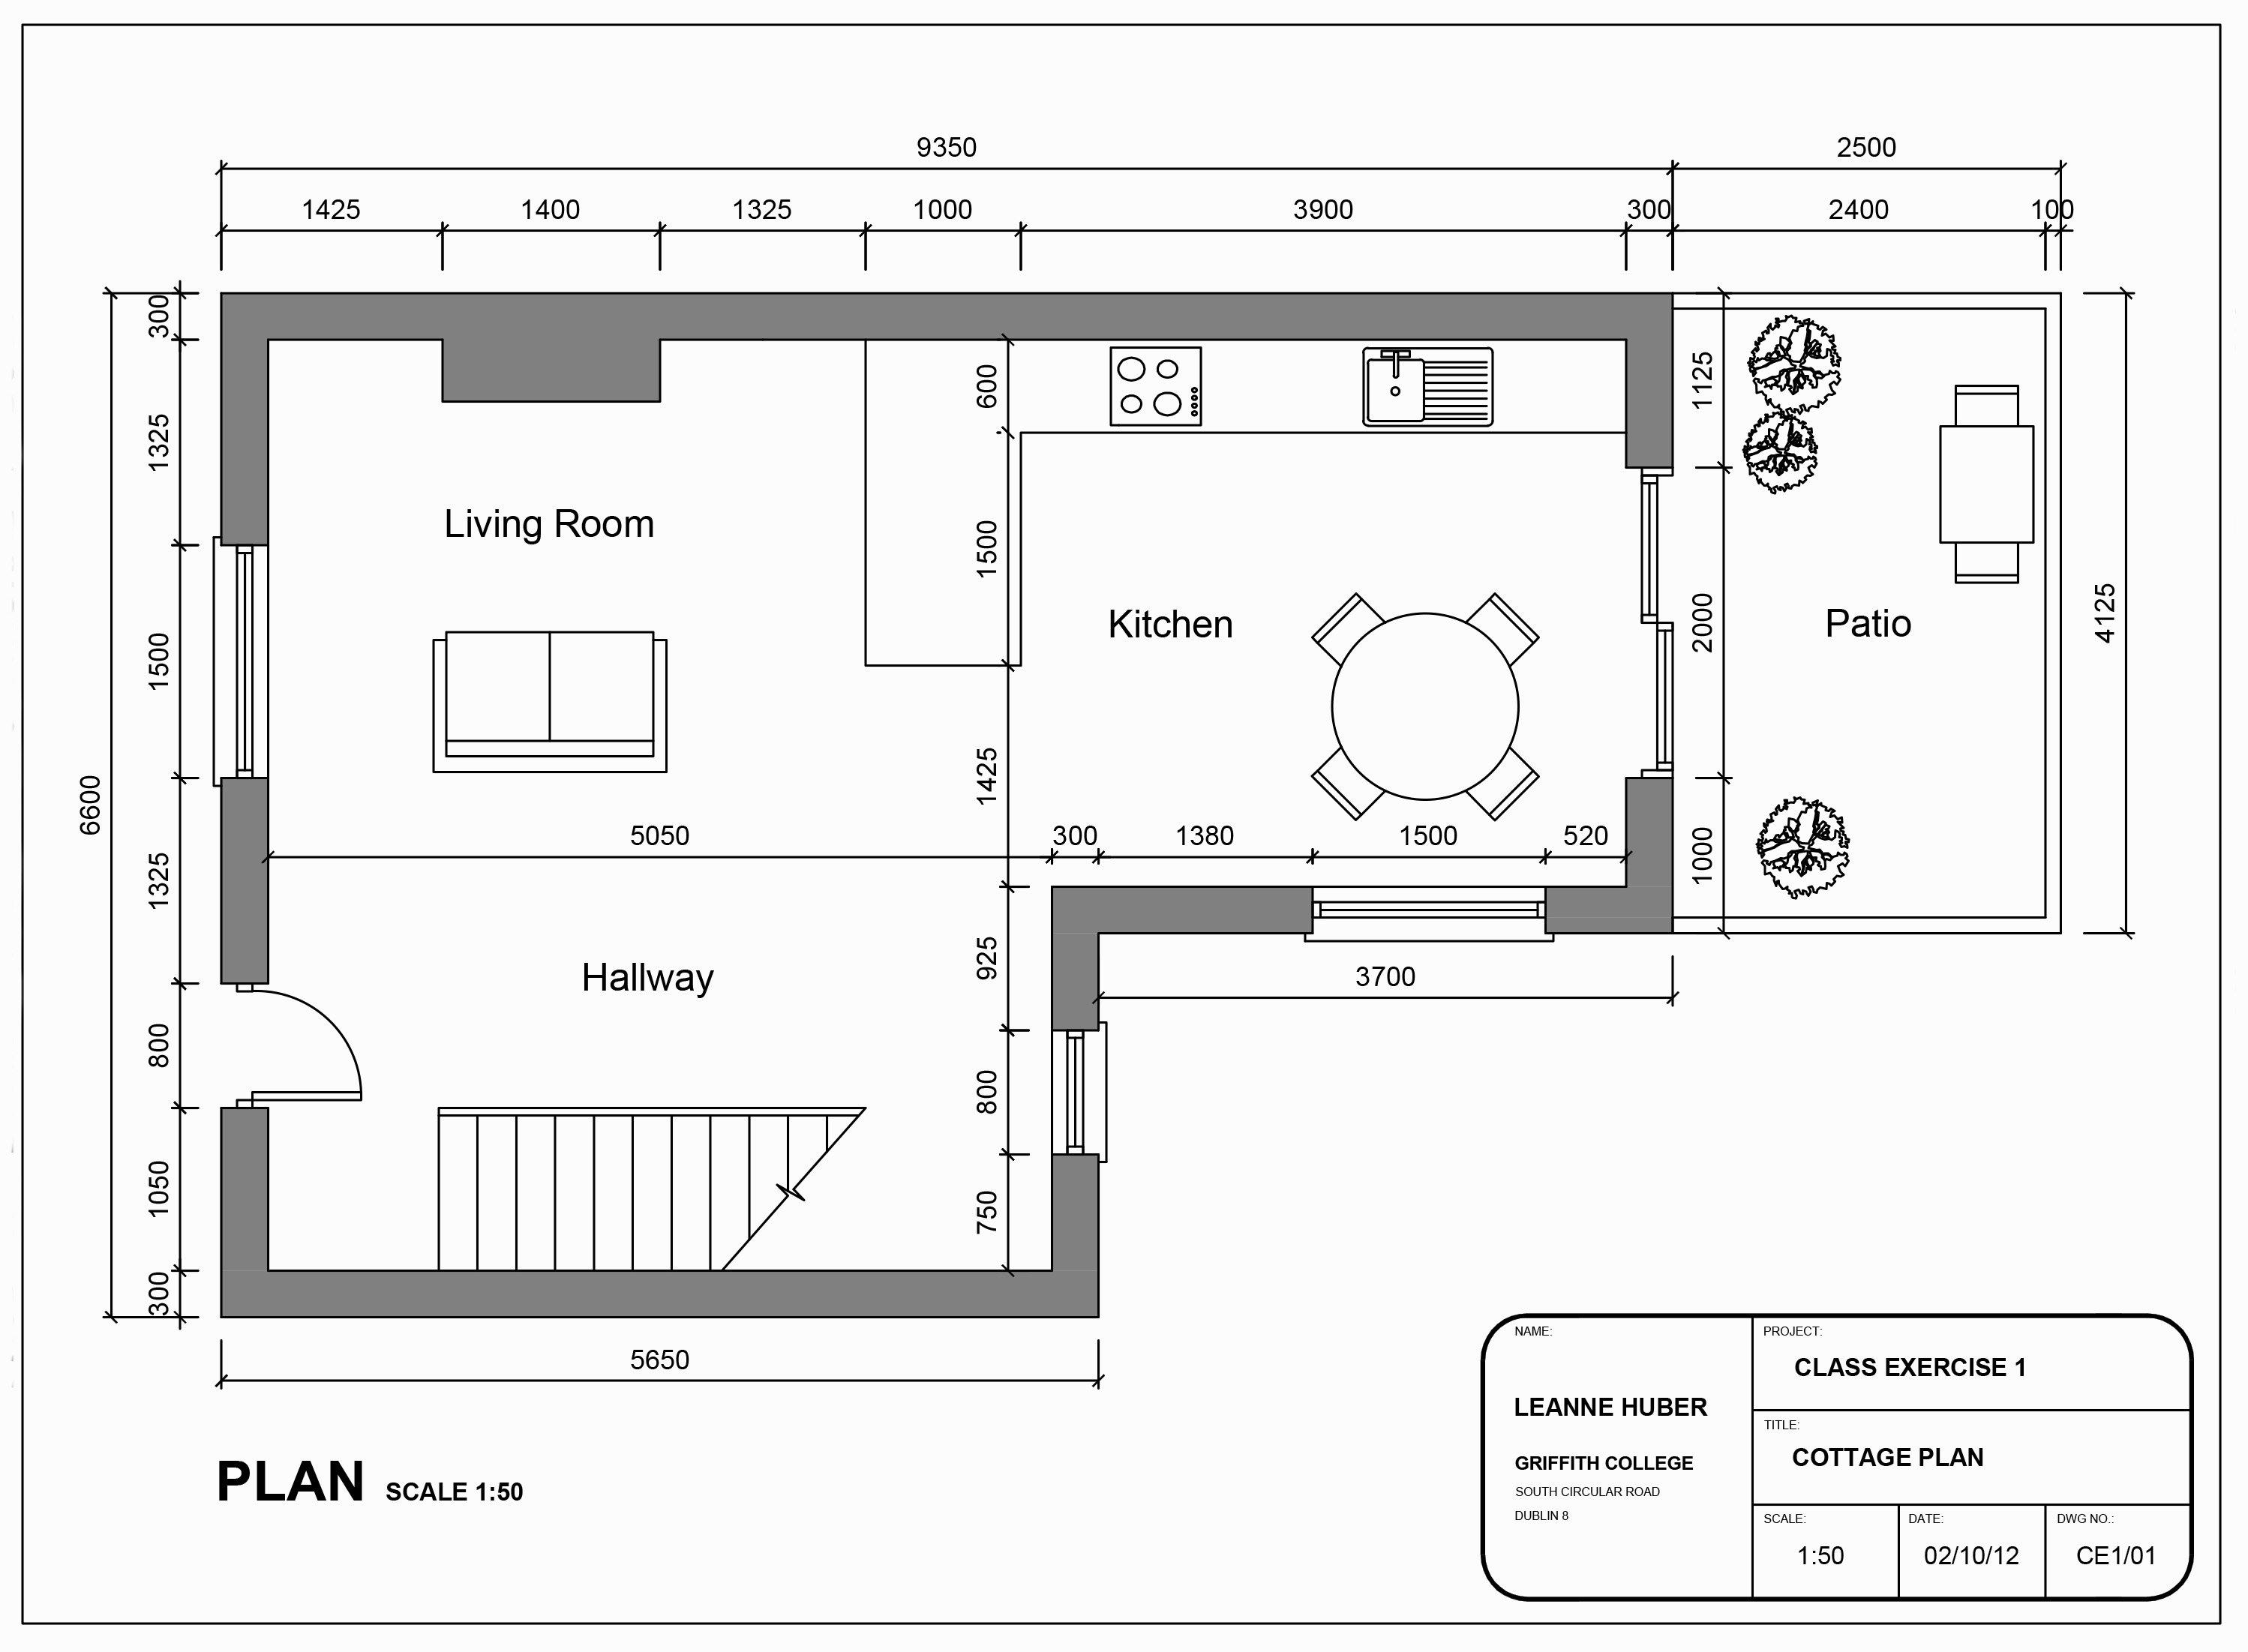hallway: (265, 857, 1056, 1275)
kitchen: (1011, 335, 1625, 884)
living_room: (267, 337, 1012, 860)
terrace: (1676, 305, 2047, 918)
